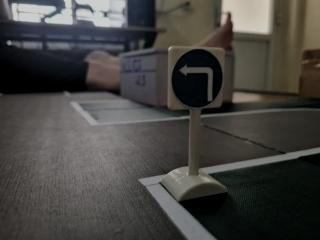left: (167, 45, 226, 111)
